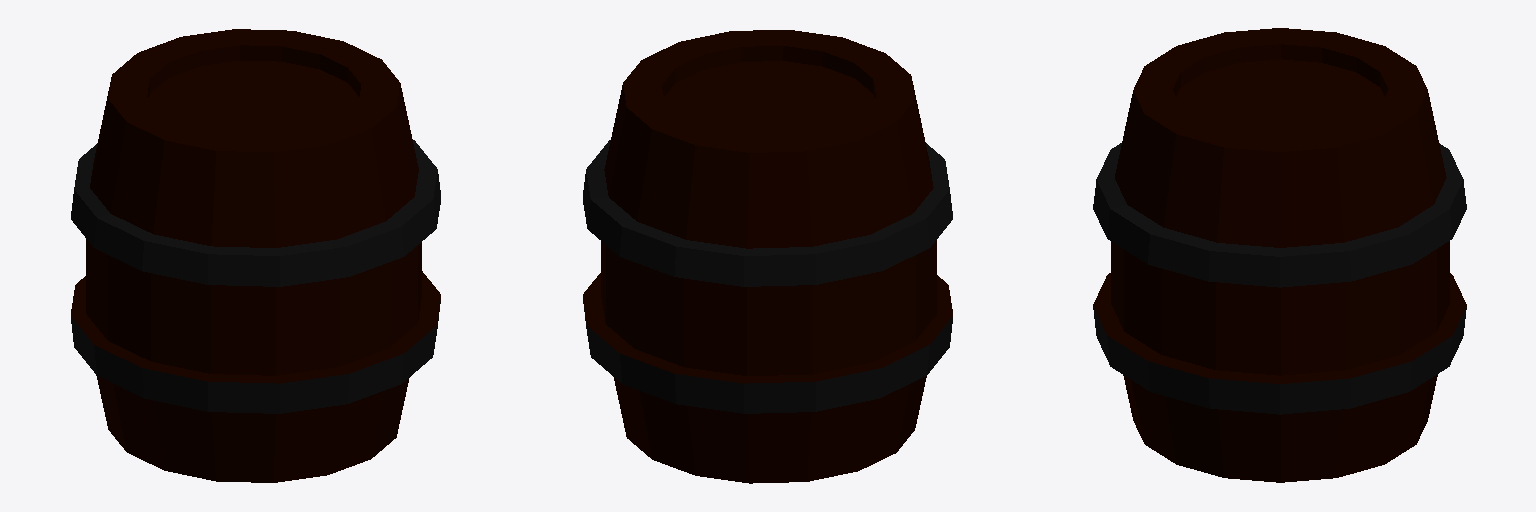
The model's file is barrel.obj.
3 views of the same model, side by side, from view 1: azimuth 30°, elevation 25°; view 2: azimuth 150°, elevation 25°; view 3: azimuth 270°, elevation 25° (orthographic).
Parts seen in each view (by area): view 1: Cylinder_Cylinder.001; view 2: Cylinder_Cylinder.001; view 3: Cylinder_Cylinder.001.
Part boxes in pixels (bbox=[...]): Cylinder_Cylinder.001: bbox=[71, 29, 440, 482]; Cylinder_Cylinder.001: bbox=[583, 30, 952, 483]; Cylinder_Cylinder.001: bbox=[1093, 28, 1466, 482].
Size of the model in its own units: 1.2 by 1.17 by 1.2.